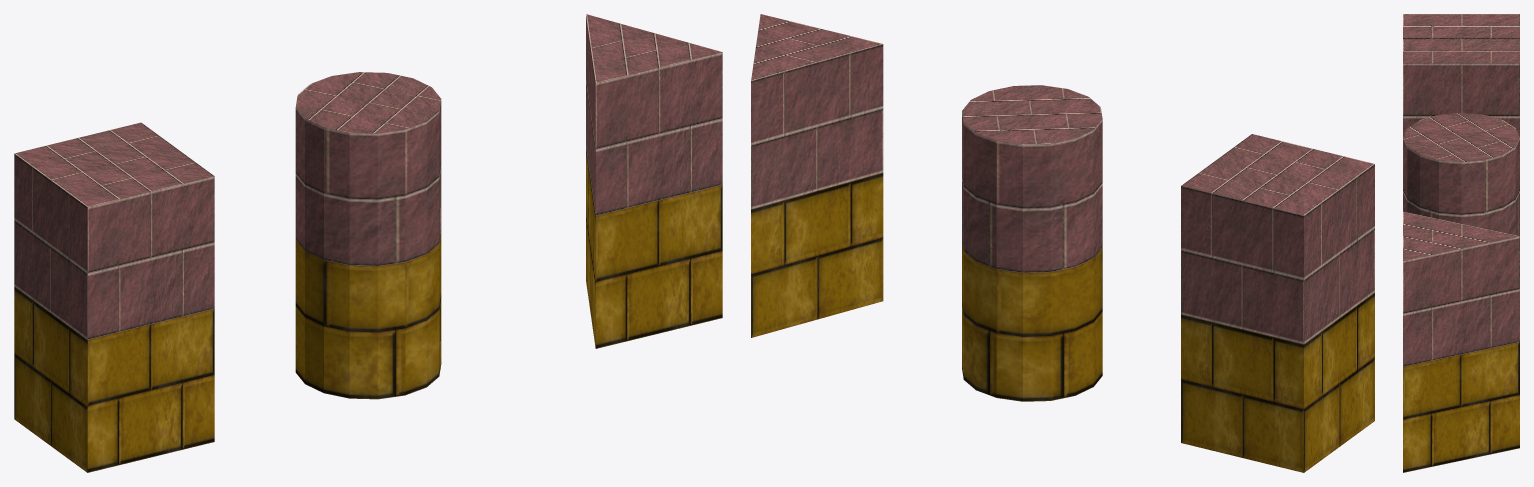
The model's file is wall_components.glb.
3 renders of one model, left to right at view 1: azimuth 30°, elevation 25°; view 2: azimuth 150°, elevation 25°; view 3: azimuth 270°, elevation 25°, orthographic. The views are drawn at different scales.
Visible parts, largest first — view 1: SquareWall, RoundWall, TriangularWall; view 2: SquareWall, RoundWall, TriangularWall; view 3: TriangularWall, RoundWall, SquareWall.
Boxes of the visible parts, left/top/right/bottom form: SquareWall: left=14, top=122, right=214, bottom=472; RoundWall: left=295, top=72, right=441, bottom=399; TriangularWall: left=586, top=14, right=722, bottom=348; SquareWall: left=1181, top=134, right=1374, bottom=472; RoundWall: left=962, top=85, right=1102, bottom=401; TriangularWall: left=751, top=14, right=883, bottom=337; TriangularWall: left=1403, top=211, right=1519, bottom=472; RoundWall: left=1403, top=113, right=1519, bottom=236; SquareWall: left=1403, top=14, right=1519, bottom=136.
Bounding box in the file's own units: 5 × 2 × 1.
2 materials, 2 textured.
